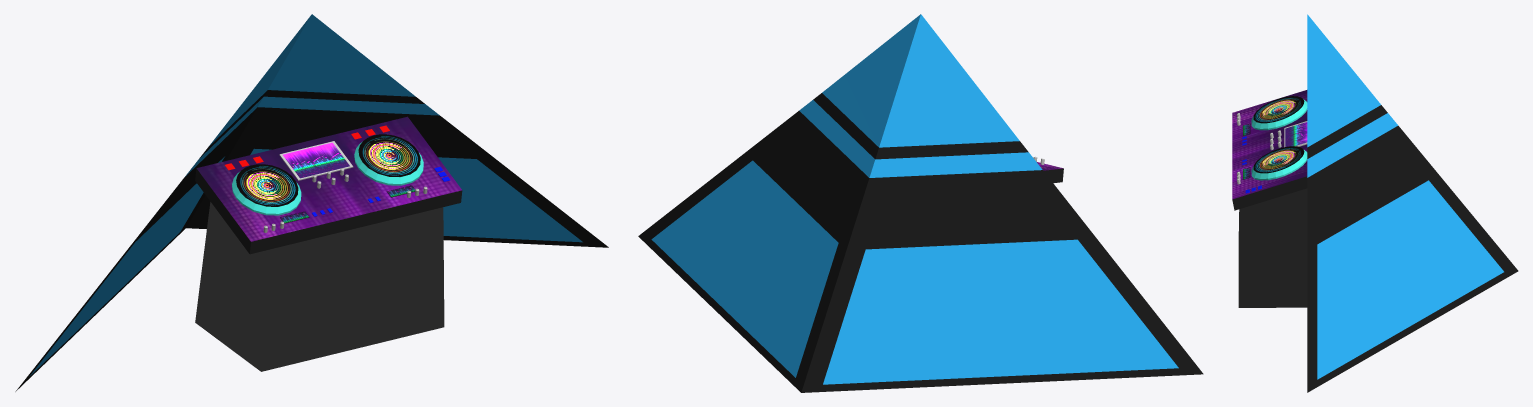
Rendered from ETC0110016.fbx.
The picture shows the model from 3 angles, left to right: view 1: azimuth 30°, elevation 25°; view 2: azimuth 150°, elevation 25°; view 3: azimuth 270°, elevation 25°; orthographic projection. The views are drawn at different scales.
Parts seen in each view (by area): view 1: smETC0110016; view 2: smETC0110016; view 3: smETC0110016.
Part boxes in pixels (x1,y1,x2,y2): smETC0110016: (15,14,608,391); smETC0110016: (638,14,1203,392); smETC0110016: (1232,14,1518,392).
Bounding box in the file's own units: 446 × 220 × 222.
Materials: 2 (2 with a texture image).
